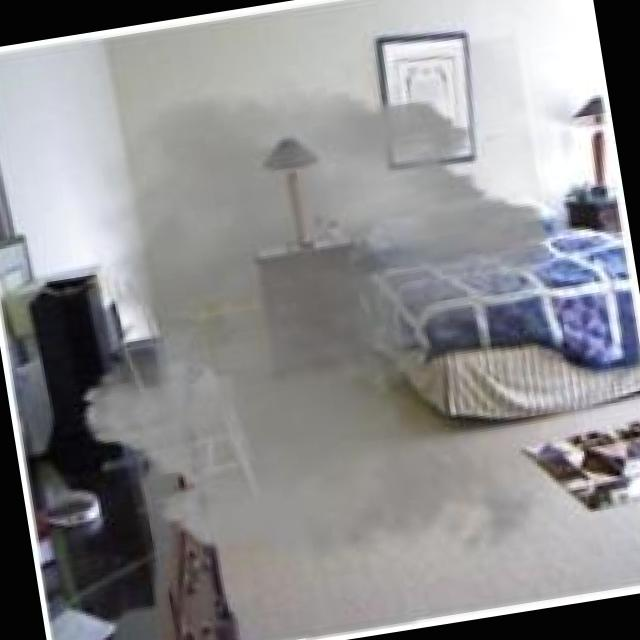smoke: (173, 68, 497, 451)
